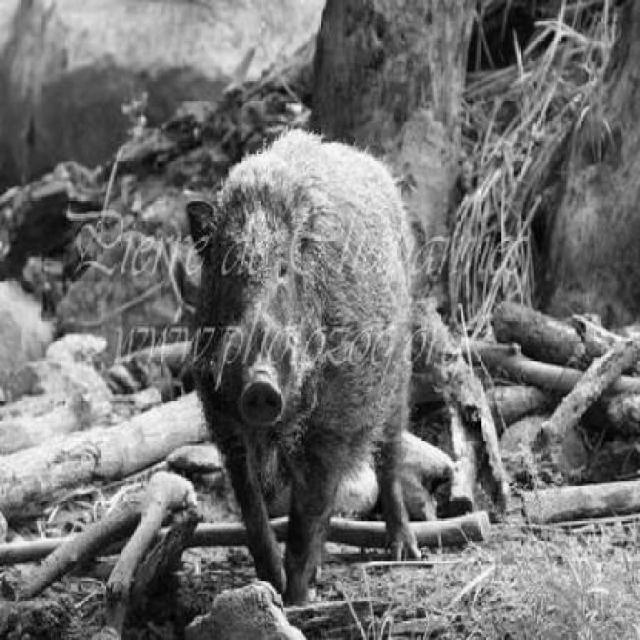Boar: (194, 101, 534, 614)
